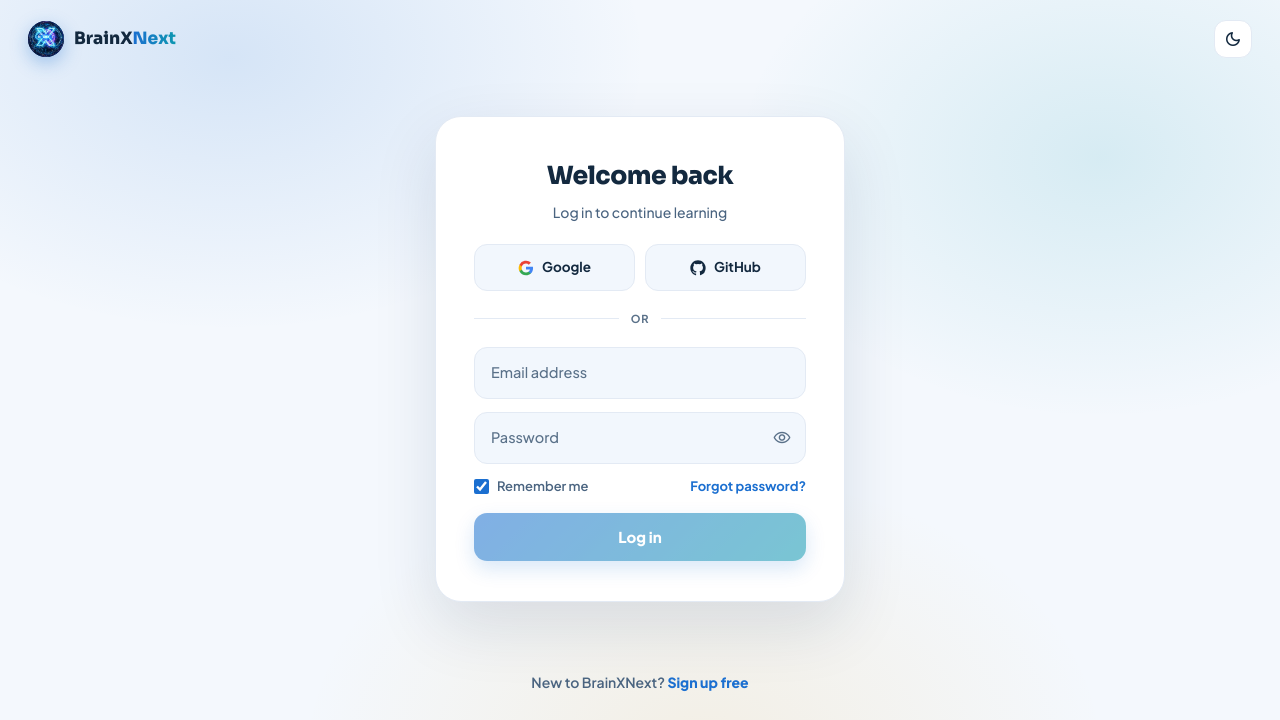
Scenario: <Login /> › shows the server error for a wrong password
Type "hasibulx26@gmail.com" into the field labelled "Email address" at [640, 373], box left=474, top=347, right=806, bottom=399
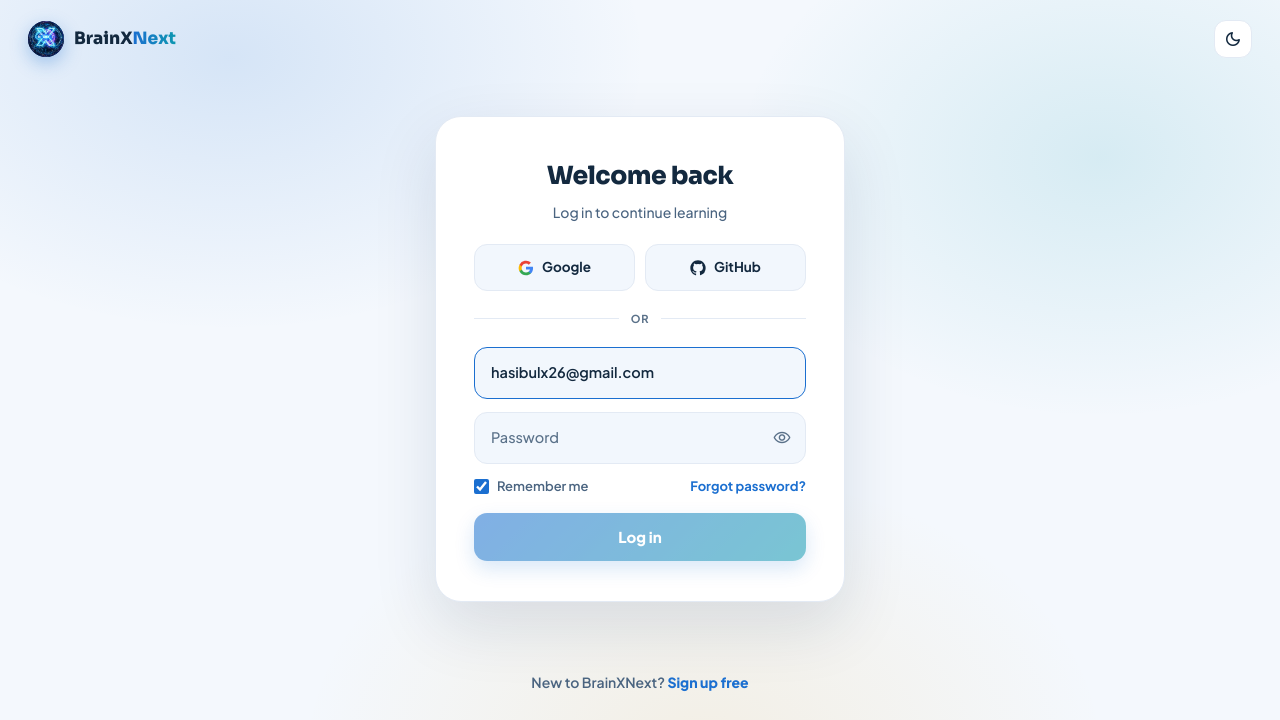
Type "wrong-password" into the password field labelled "Password" at [640, 438], box left=474, top=412, right=806, bottom=464
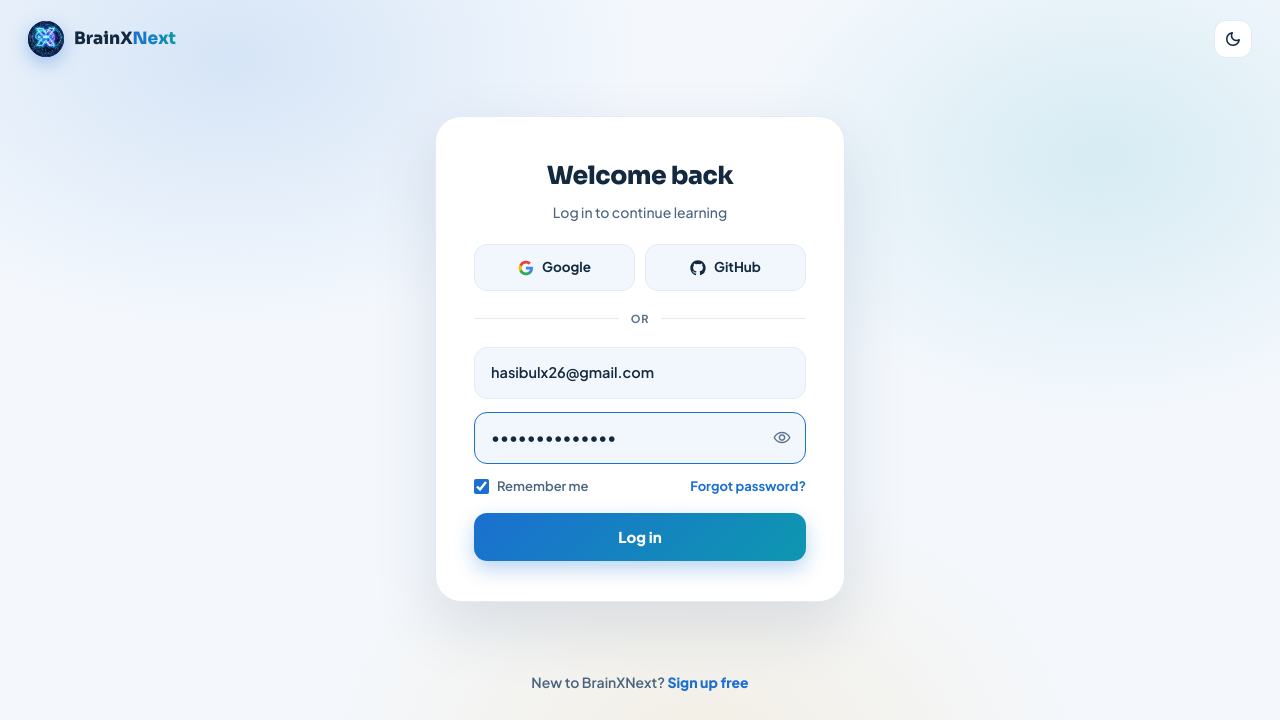
Click the button "Log in" at [640, 537], box left=474, top=513, right=806, bottom=561
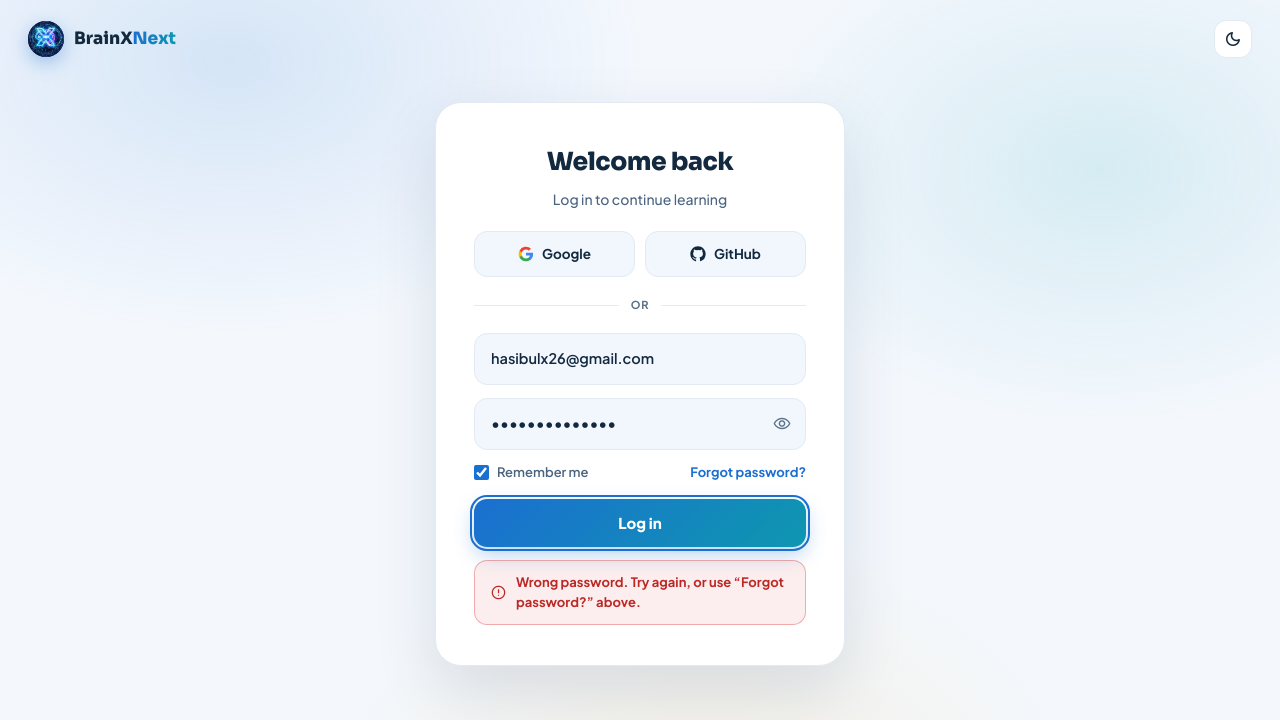
Result: the message reads "Wrong password. Try again, or use “Forgot password?” above." at left=516, top=574, right=784, bottom=610
